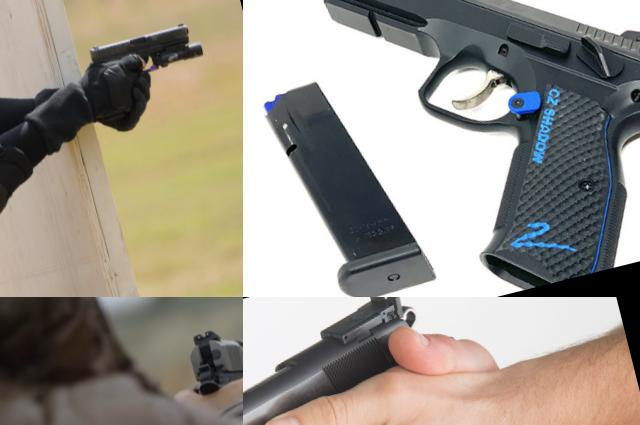handgun: (313, 0, 640, 297), (243, 297, 462, 425), (85, 16, 208, 94), (176, 311, 243, 410)
